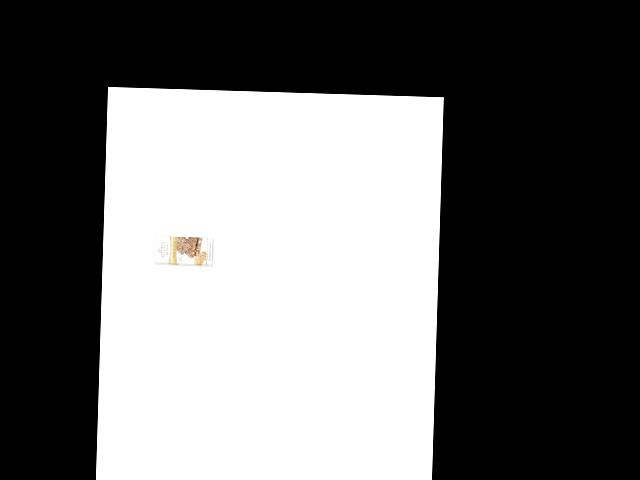chocolate: (151, 234, 215, 268)
